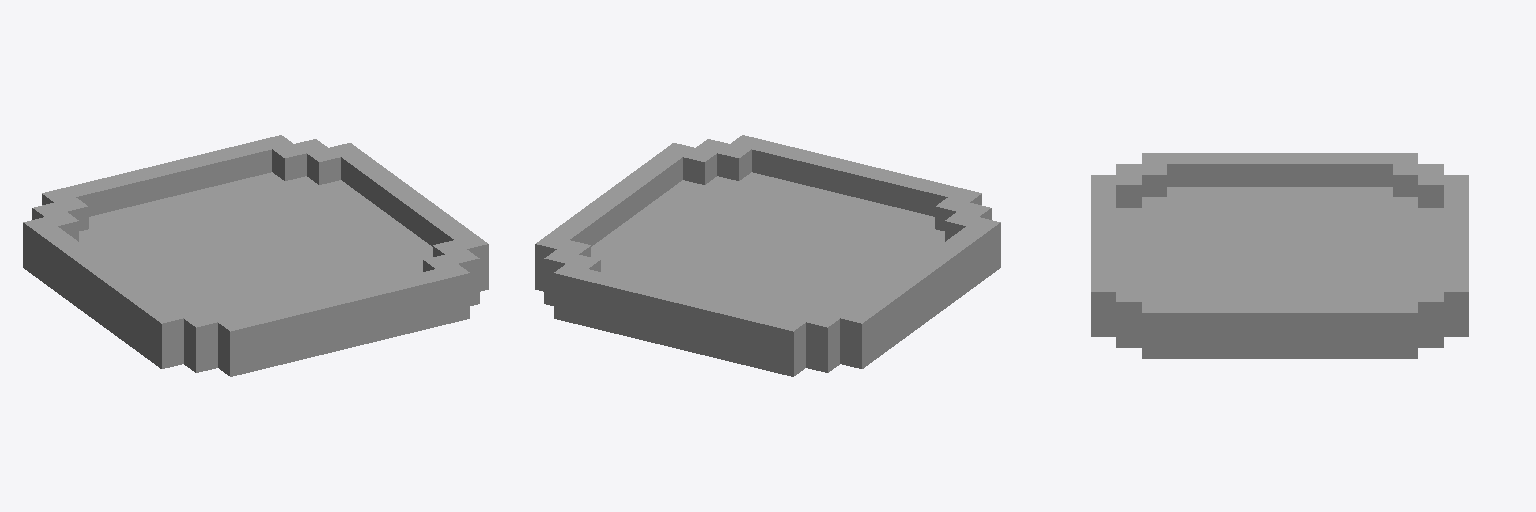
3 views of the same model, side by side, from view 1: azimuth 30°, elevation 25°; view 2: azimuth 150°, elevation 25°; view 3: azimuth 270°, elevation 25° (orthographic).
Visible parts, largest first — view 1: object 1; view 2: object 1; view 3: object 1.
Boxes of the visible parts, <box> form: object 1: <box>23,135,488,376</box>; object 1: <box>535,135,1000,376</box>; object 1: <box>1091,153,1468,358</box>.
Size of the model in its own units: 1.5 by 0.2 by 1.5.
1 materials, 1 textured.